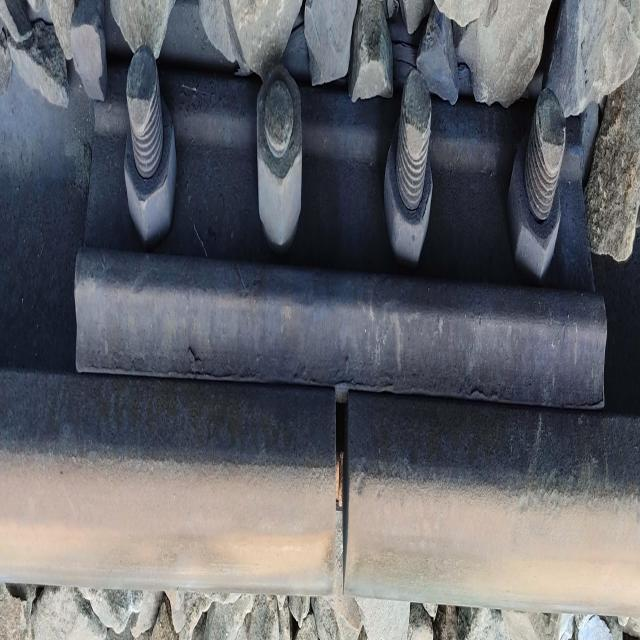Good Joint: (75, 47, 605, 400)
